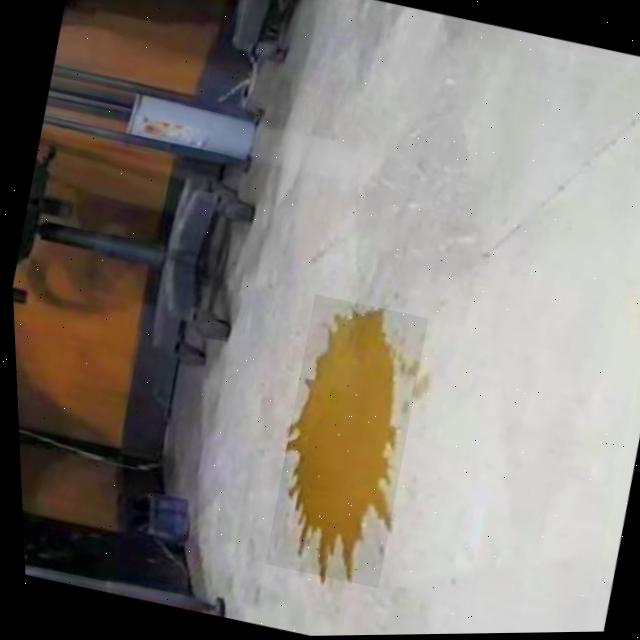spillage: (282, 308, 394, 579)
